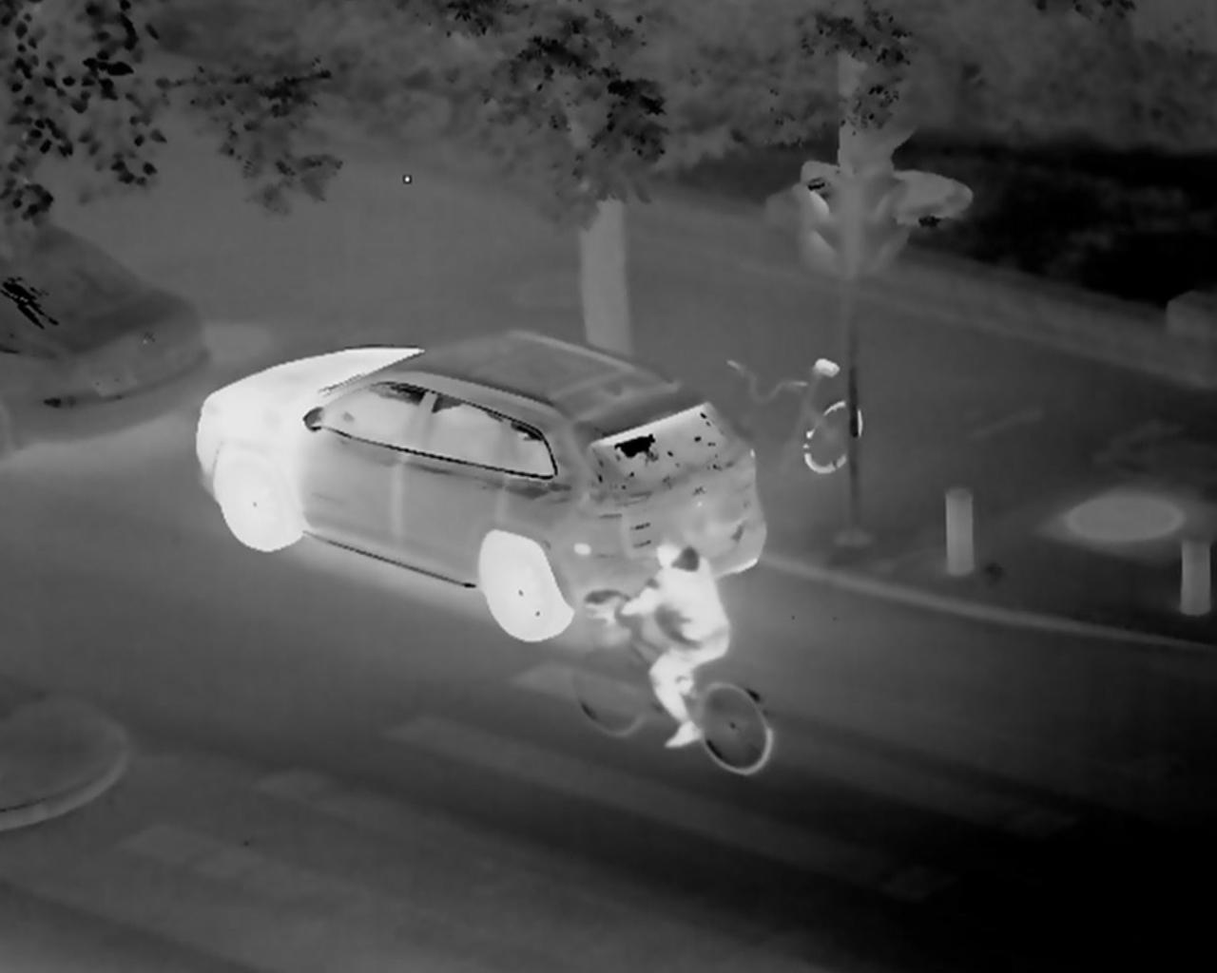person: (608, 530, 730, 749)
